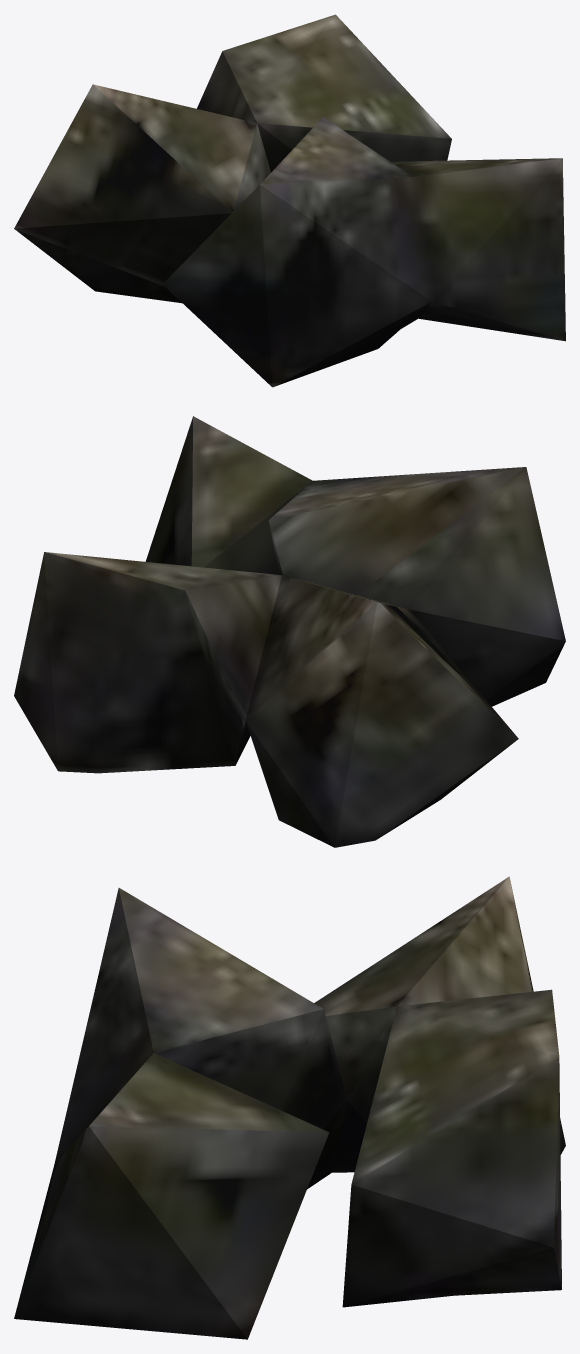
Rendered from mossy_erratic_lod2.glb.
The picture shows the model from 3 angles, top to bottom: view 1: azimuth 30°, elevation 25°; view 2: azimuth 150°, elevation 25°; view 3: azimuth 270°, elevation 25°; orthographic projection. The views are drawn at different scales.
Parts seen in each view (by area): view 1: mossy_erratic_lod2; view 2: mossy_erratic_lod2; view 3: mossy_erratic_lod2.
Part boxes in pixels (bbox=[...]): mossy_erratic_lod2: bbox=[14, 14, 565, 387]; mossy_erratic_lod2: bbox=[14, 416, 565, 847]; mossy_erratic_lod2: bbox=[14, 876, 565, 1339].
Size of the model in its own units: 1.03 by 0.465 by 0.8871.
Materials: 1 (1 with a texture image).
